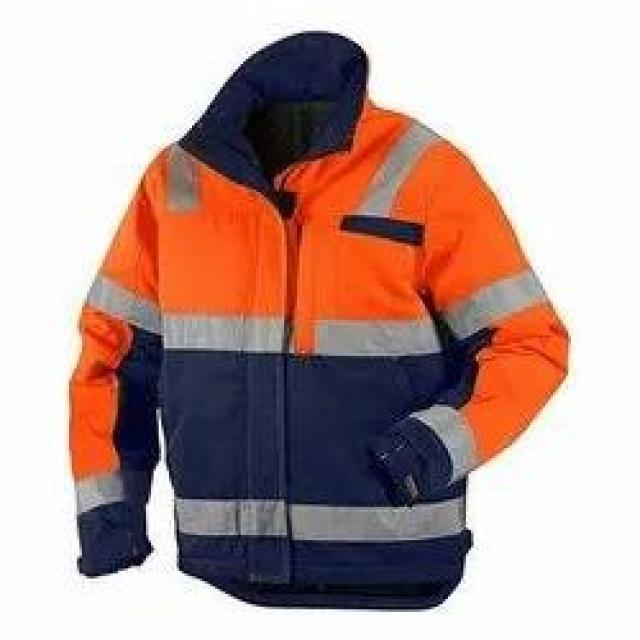Reflective-Jacket: (12, 51, 602, 622)
